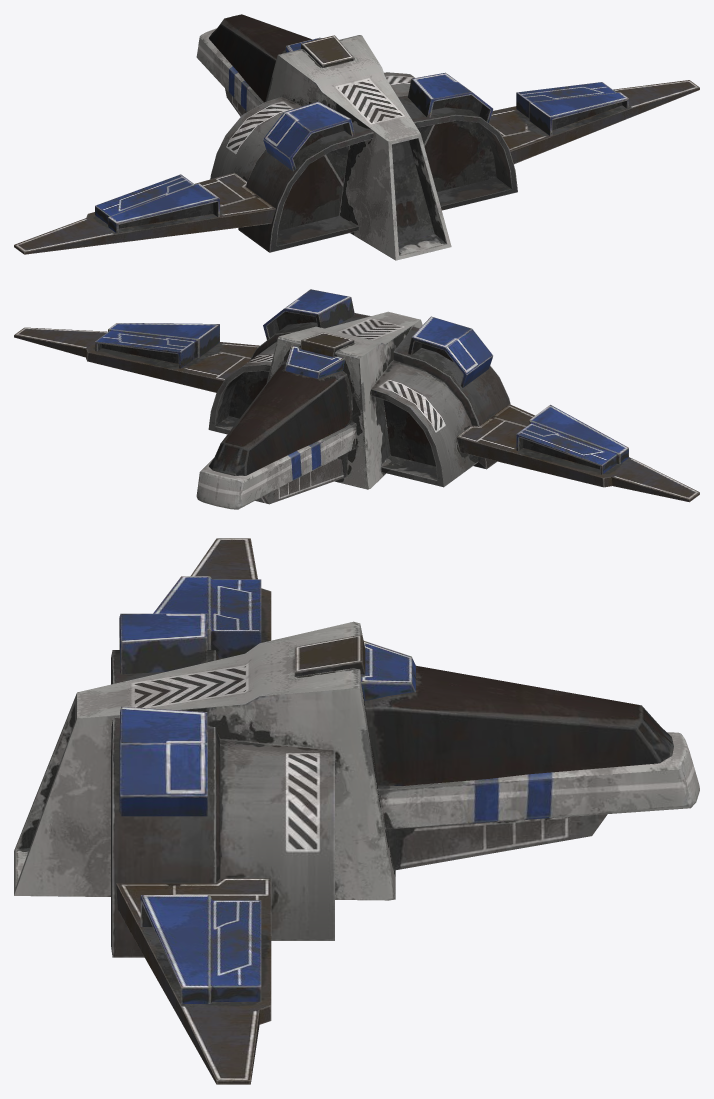
File: quaternius-bob.glb
3 renders of one model, top to bottom at view 1: azimuth 30°, elevation 25°; view 2: azimuth 150°, elevation 25°; view 3: azimuth 270°, elevation 25°, orthographic. The views are drawn at different scales.
Parts seen in each view (by area): view 1: Bob; view 2: Bob; view 3: Bob.
Part boxes in pixels (x1,y1,x2,y2): Bob: [14, 14, 699, 260]; Bob: [14, 289, 699, 509]; Bob: [14, 538, 699, 1084].
Size of the model in its own units: 10.5 by 2.04 by 5.61.
1 material, 1 textured.
